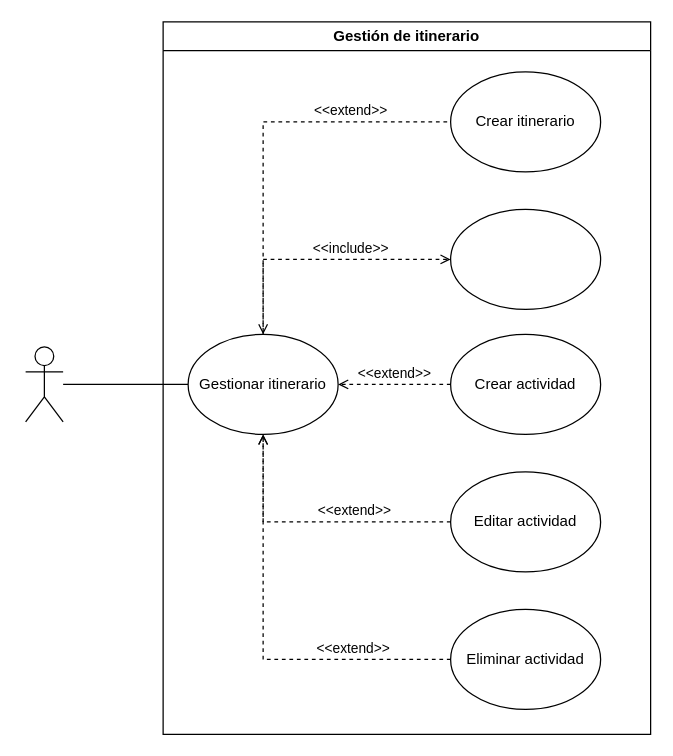
Image size: 673x756. Some labels were removed from this diagram. Each missing label, with the centre of its shape:
"Viajero" goes at (43,384).
"Visualizar itinerario por día" goes at (525,258).
